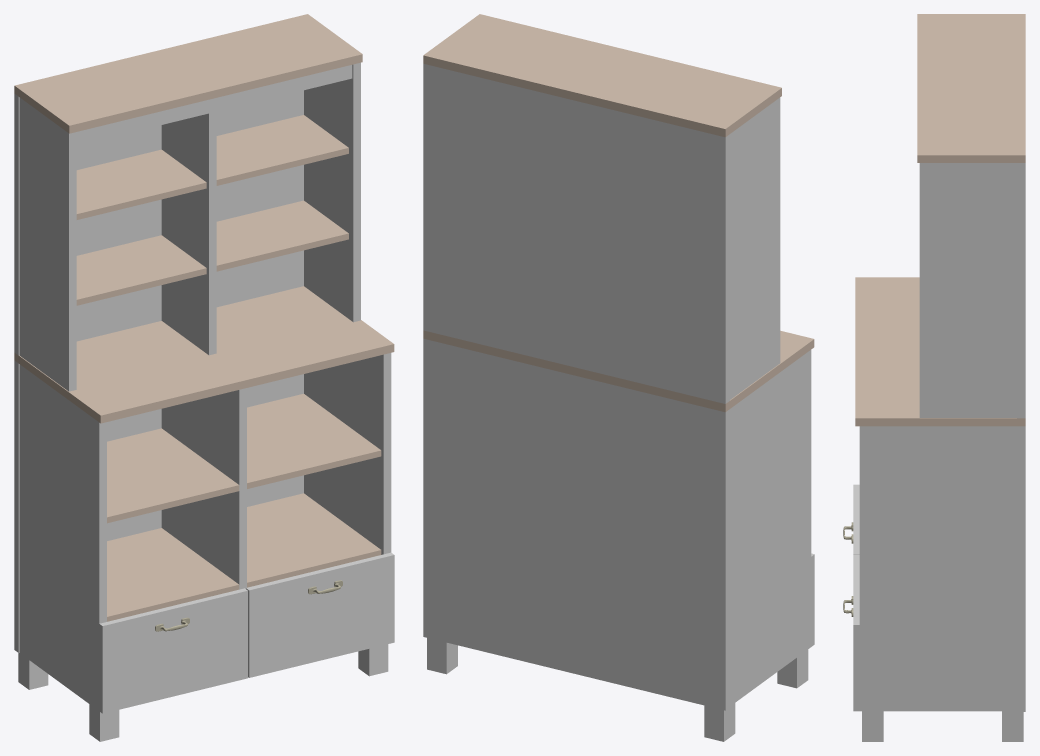
3 renders of one model, left to right at view 1: azimuth 30°, elevation 25°; view 2: azimuth 150°, elevation 25°; view 3: azimuth 270°, elevation 25°, orthographic. The views are drawn at different scales.
Parts seen in each view (by area): view 1: Body, drawer1, drawer2; view 2: Body; view 3: Body, drawer2, drawer1.
Part boxes in pixels (box(x1,y1,x2,y2)): Body: box(14, 14, 394, 741); drawer1: box(99, 588, 247, 713); drawer2: box(246, 552, 394, 677); Body: box(423, 14, 814, 741); Body: box(855, 14, 1025, 741); drawer2: box(843, 555, 859, 711); drawer1: box(843, 484, 859, 554).
Bounding box in the file's own units: 0.771 × 1.5 × 0.4208.
